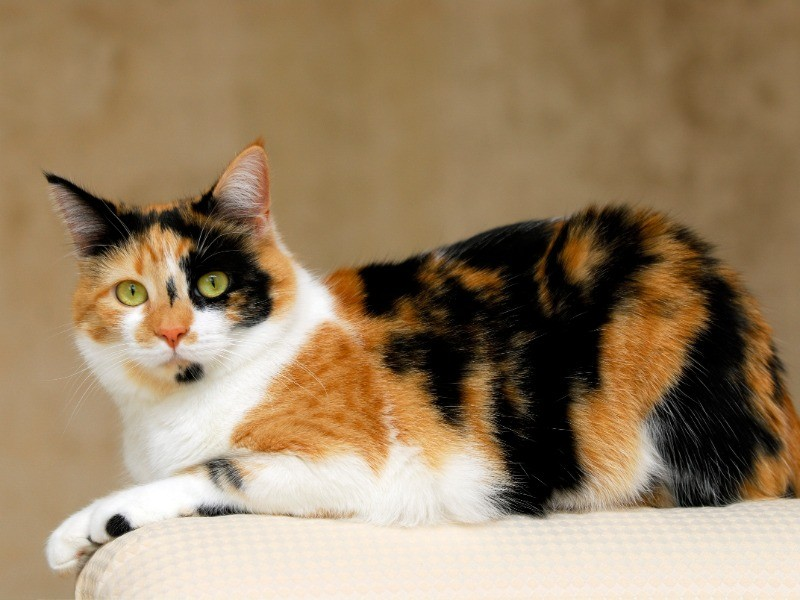cat: (36, 136, 800, 576)
